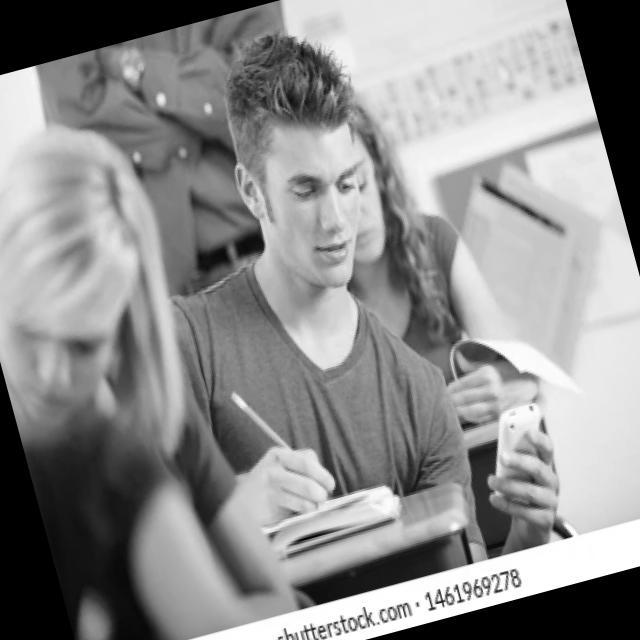phone: (476, 398, 564, 511)
